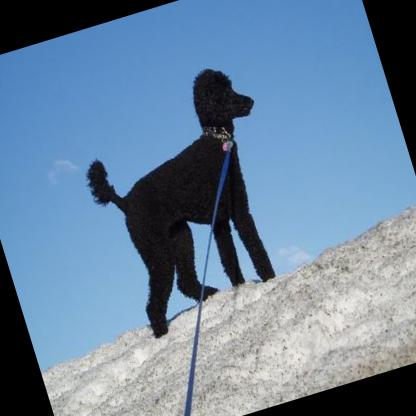standard_poodle: (62, 55, 313, 346)
